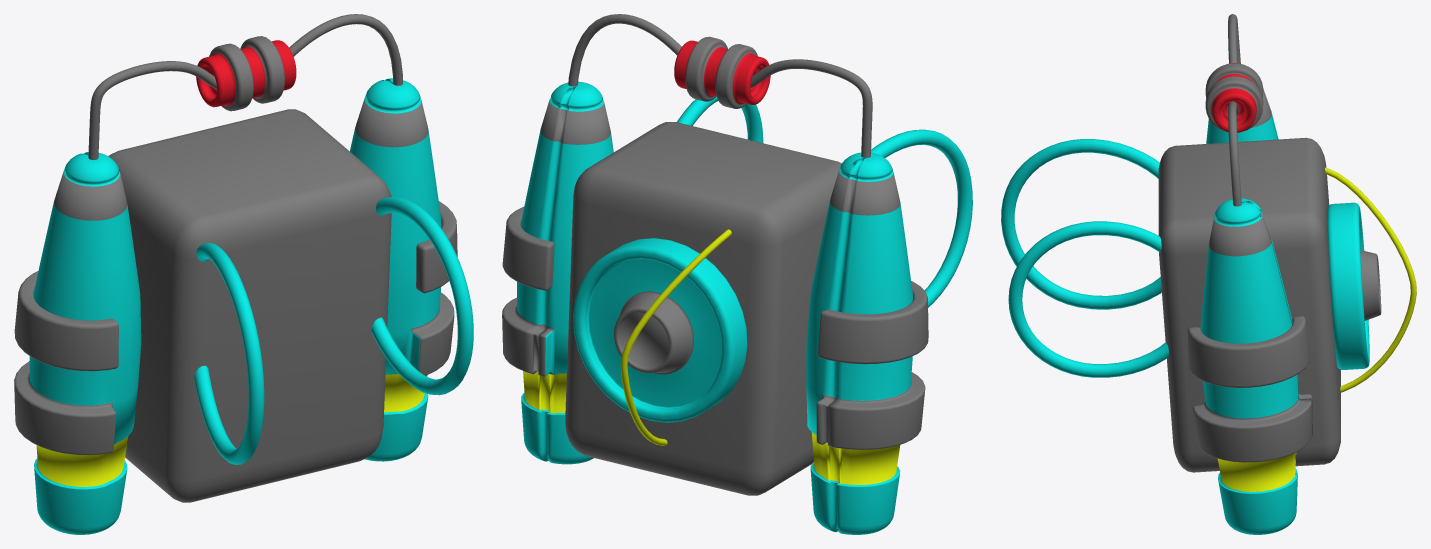
The model's file is Jetpack.fbx.
3 views of the same model, side by side, from view 1: azimuth 30°, elevation 25°; view 2: azimuth 150°, elevation 25°; view 3: azimuth 270°, elevation 25° (orthographic). The views are drawn at different scales.
Parts seen in each view (by area): view 1: Jetpack; view 2: Jetpack; view 3: Jetpack.
Part boxes in pixels (<box>): Jetpack: <box>14,14,473,534</box>; Jetpack: <box>502,14,972,534</box>; Jetpack: <box>1001,14,1416,534</box>.
Bounding box in the file's own units: 83.8 × 86.37 × 82.44.
